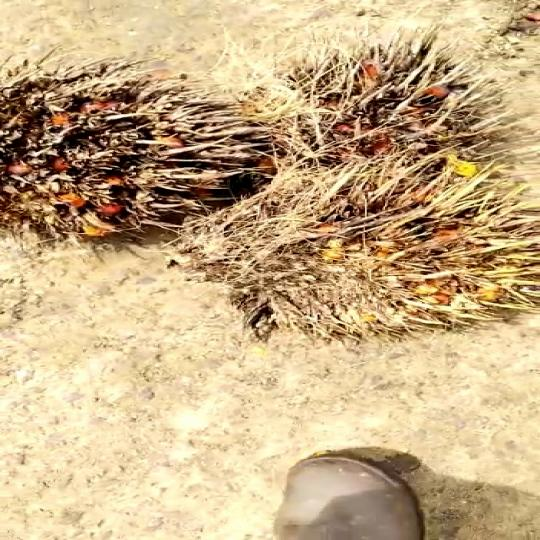terlalu masak: (151, 161, 540, 336), (0, 68, 286, 236), (259, 54, 519, 164)
